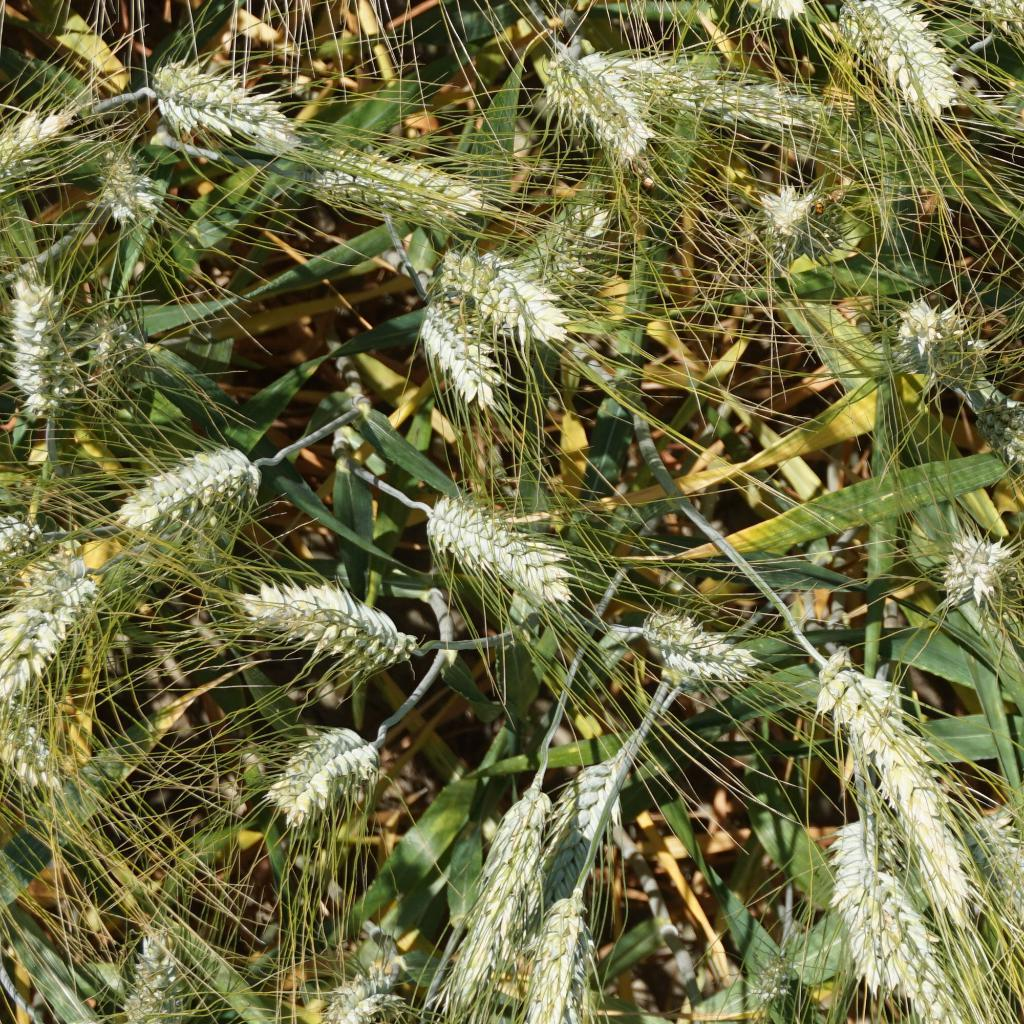0-0: (226, 566, 421, 675), (424, 494, 582, 614), (445, 784, 532, 983), (805, 804, 896, 986), (539, 742, 637, 906), (145, 63, 307, 158), (894, 768, 985, 930), (835, 1, 963, 116), (119, 445, 267, 544), (271, 713, 387, 834), (439, 244, 577, 342), (318, 143, 477, 228), (816, 654, 922, 780), (654, 62, 816, 143), (881, 876, 968, 1024), (4, 269, 77, 427), (548, 43, 650, 156), (112, 914, 208, 1020), (647, 608, 764, 694), (534, 899, 607, 1024), (0, 674, 59, 795), (425, 307, 506, 393), (760, 180, 840, 263), (81, 135, 159, 219), (987, 818, 1024, 993), (937, 525, 1013, 609), (976, 394, 1024, 516), (892, 294, 971, 368), (0, 508, 60, 599), (312, 967, 402, 1024), (0, 111, 60, 196), (854, 796, 909, 875), (541, 196, 619, 245), (535, 237, 606, 286), (86, 308, 134, 376), (760, 956, 818, 1004), (965, 0, 1024, 26), (739, 0, 814, 18)
